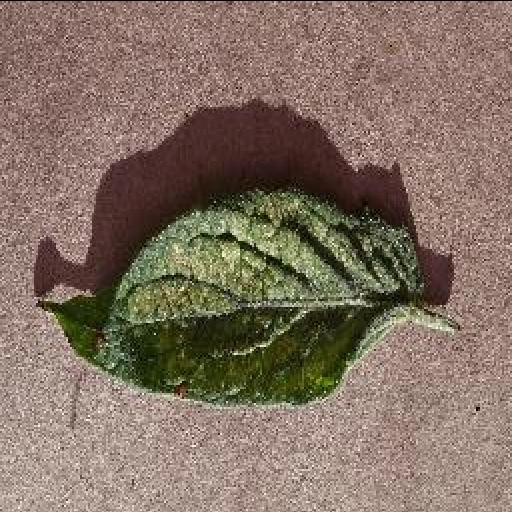disease_tomato: (34, 185, 426, 403)
